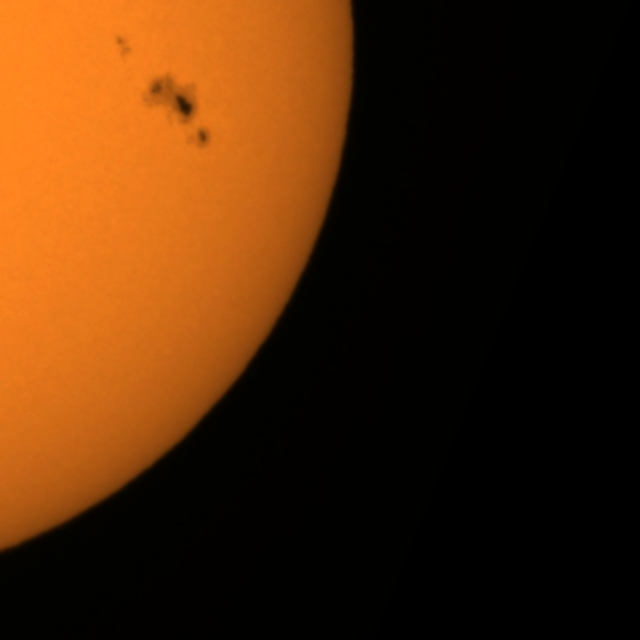sunspot: (140, 69, 173, 109), (164, 95, 197, 122), (113, 32, 134, 61)
